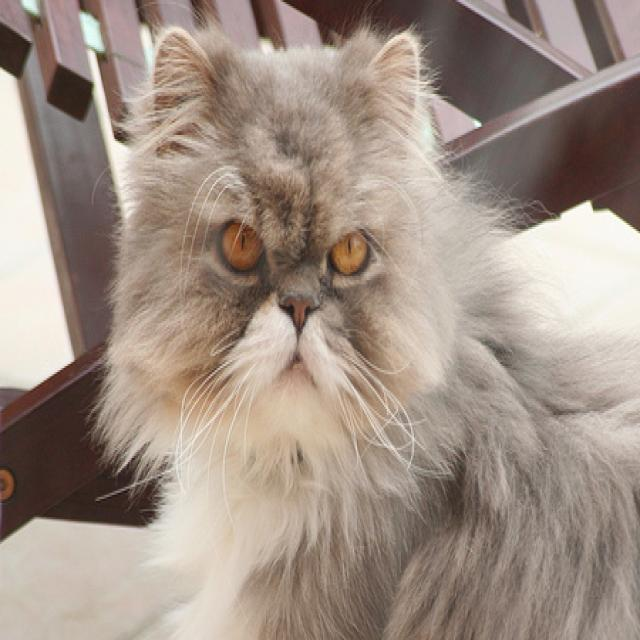Persian: (102, 20, 640, 640)
